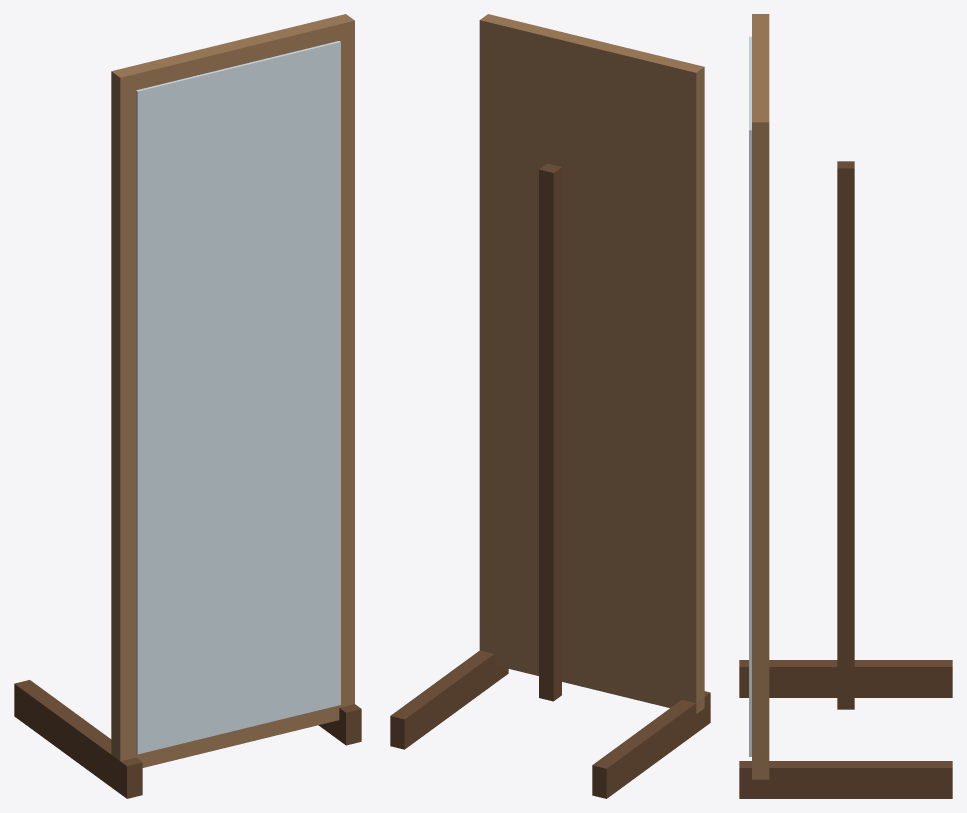
The model's file is mirror.glb.
3 renders of one model, left to right at view 1: azimuth 30°, elevation 25°; view 2: azimuth 150°, elevation 25°; view 3: azimuth 270°, elevation 25°, orthographic. The views are drawn at different scales.
Visible parts, largest first — view 1: mirror; view 2: mirror; view 3: mirror.
Boxes of the visible parts, x1=… form: mirror: x1=14, y1=14, x2=361, y2=798; mirror: x1=390, y1=14, x2=710, y2=798; mirror: x1=739, y1=14, x2=952, y2=798.
Bounding box in the file's own units: 0.6 × 1.75 × 0.5.
